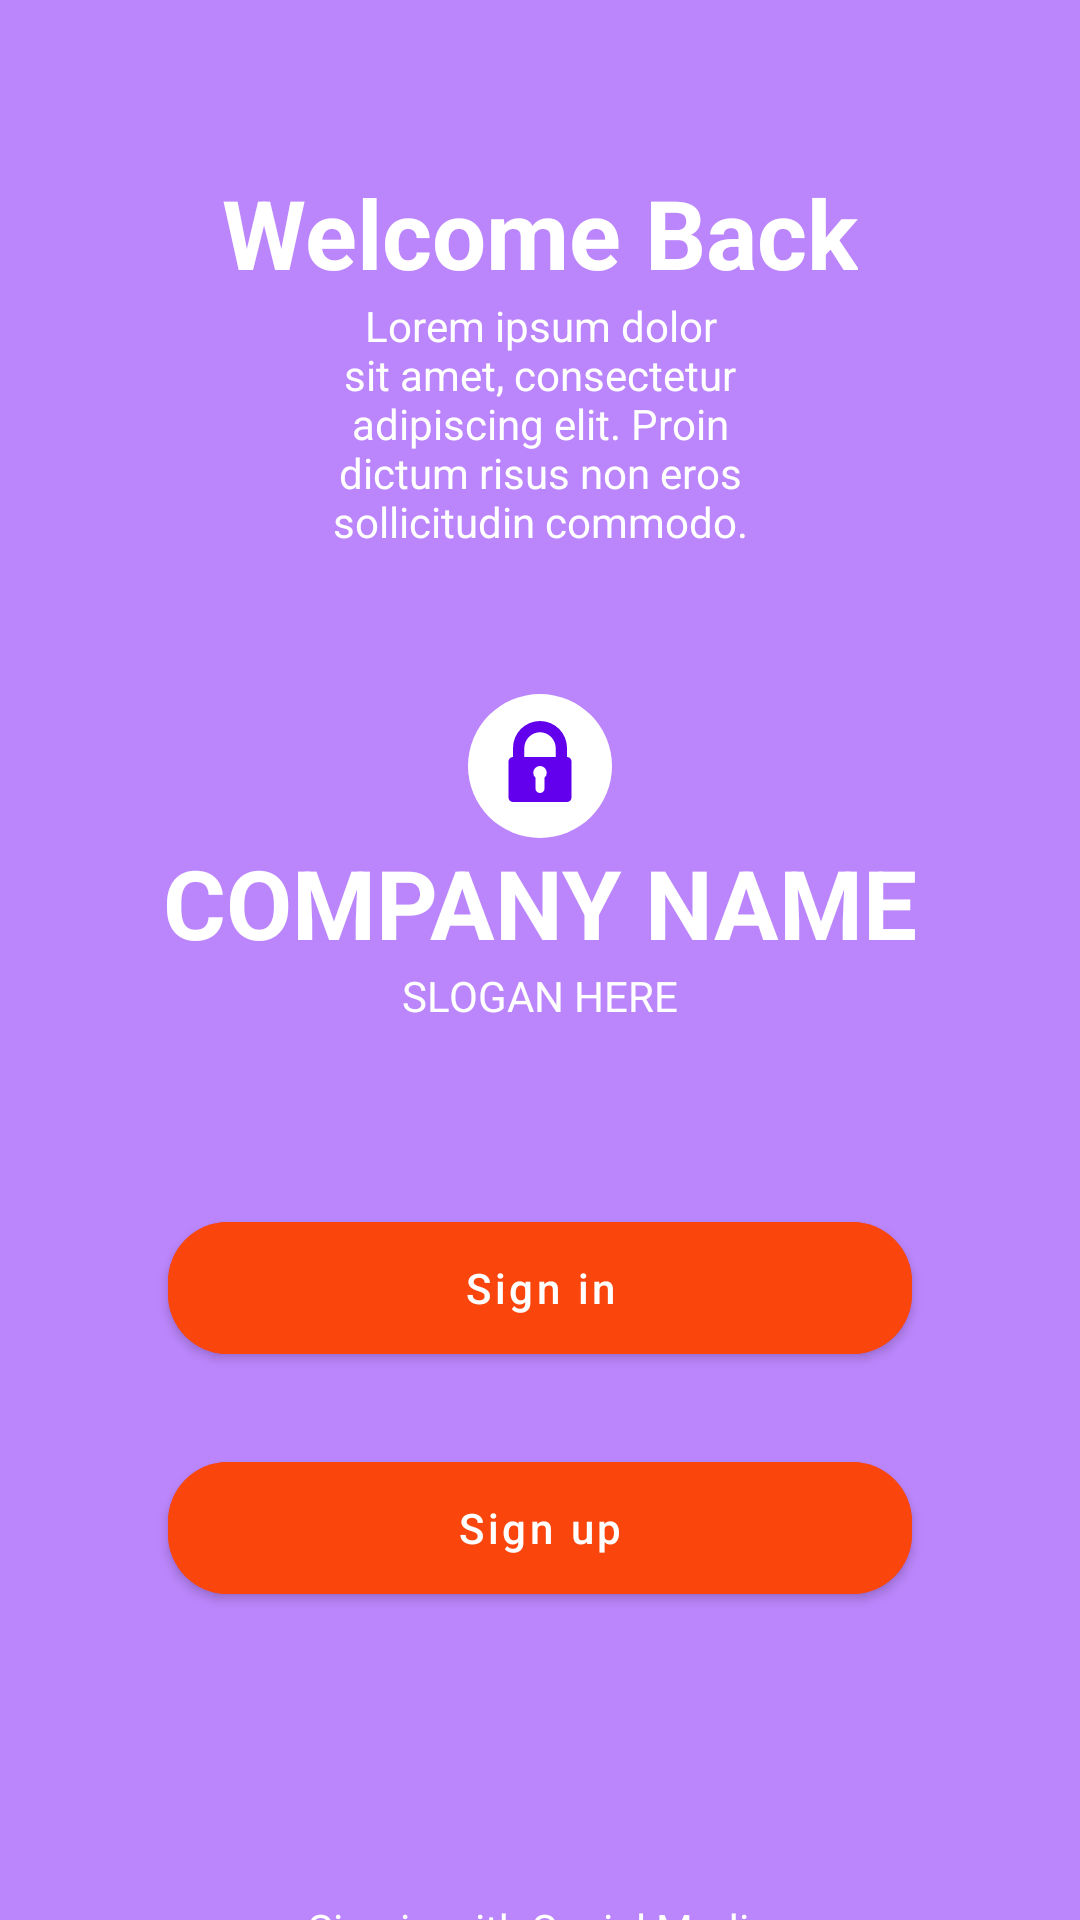

Icons on this 1080×1920 Android screen, each with its box as (x1=x1, y1=y1, x2=x2, y2=y2):
securitybusiness: (x1=468, y1=694, x2=612, y2=838)
